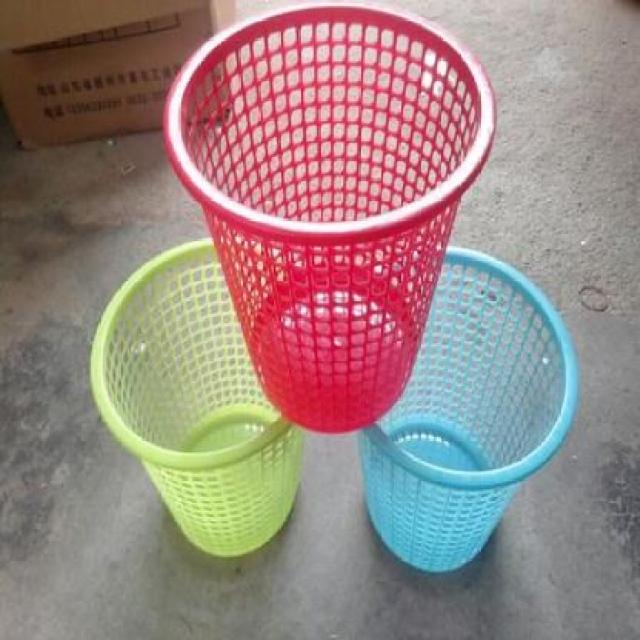dustbin: (160, 3, 499, 436), (357, 237, 581, 578), (89, 234, 307, 558)
